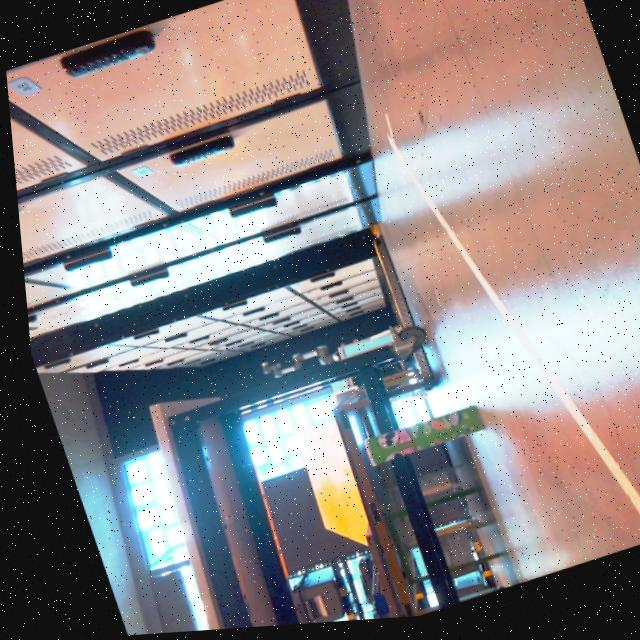greenpringles: (333, 386, 512, 482)
